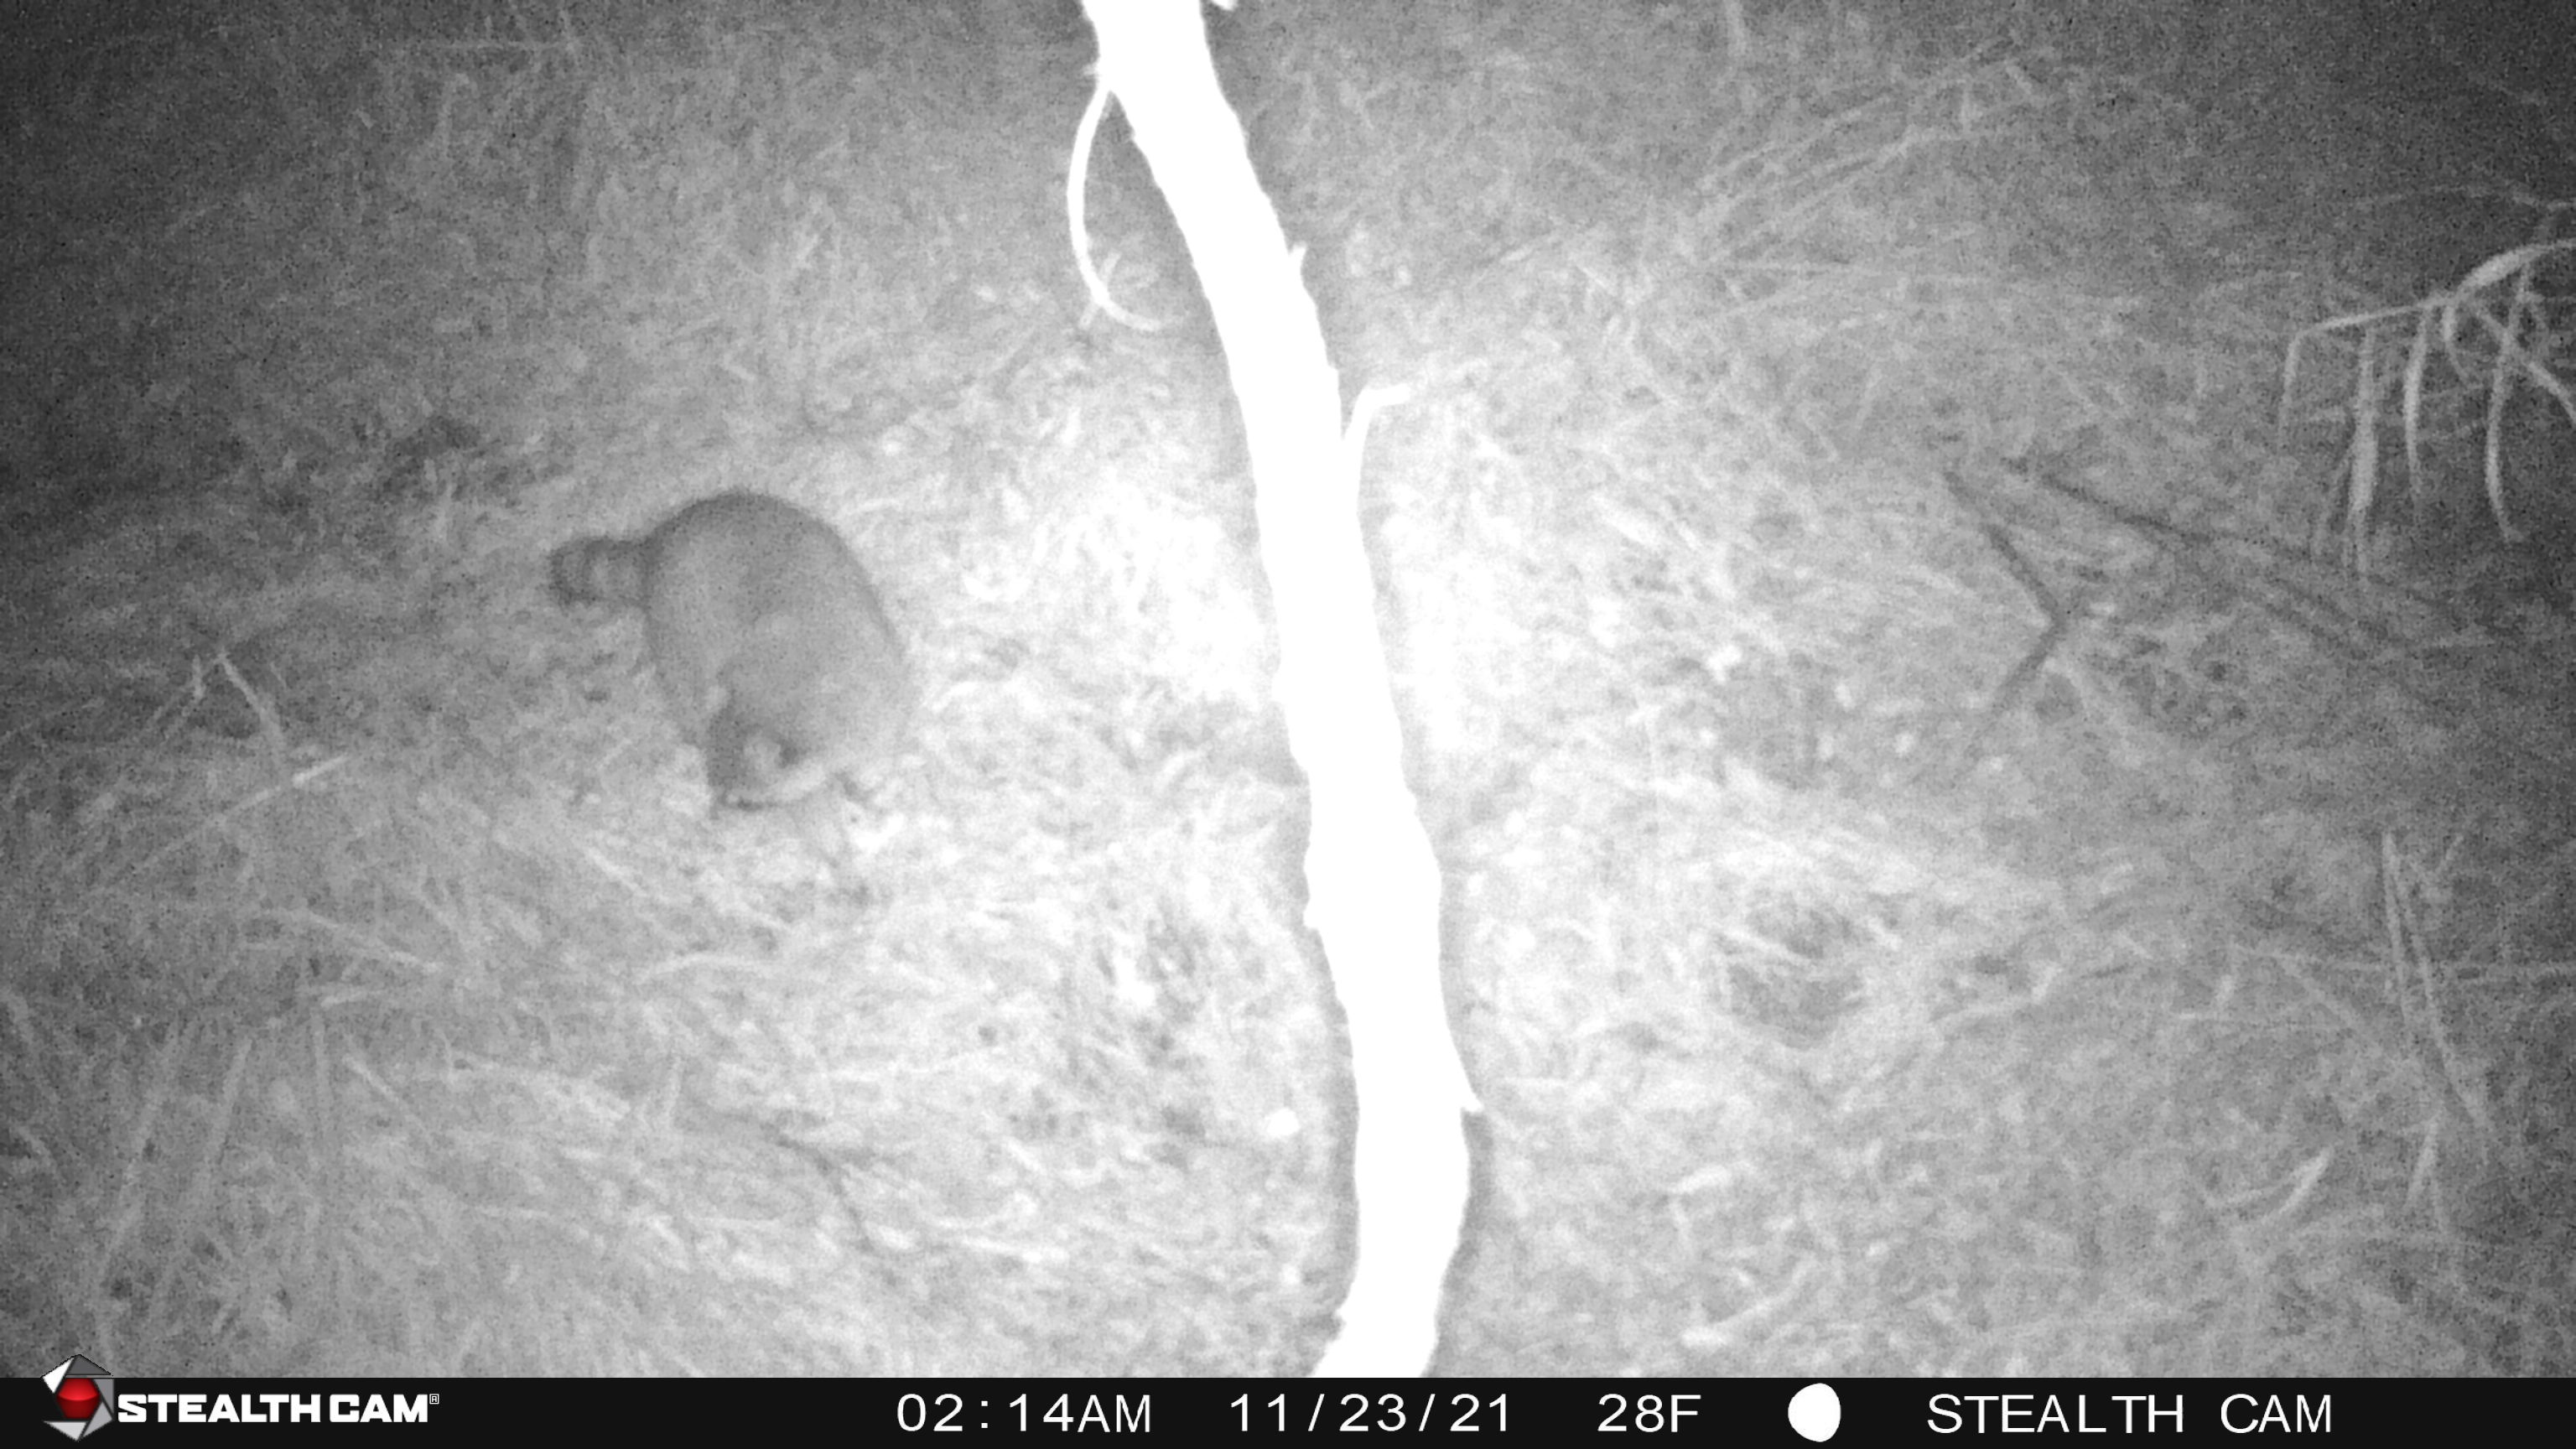Raccoon: (543, 490, 920, 832)
